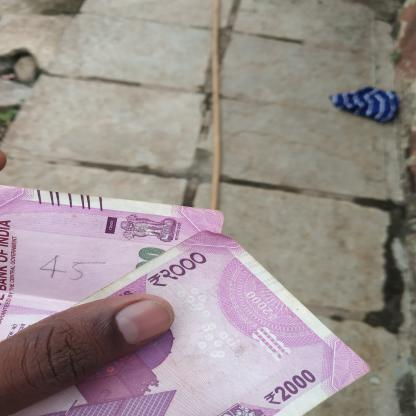New2000Back: (62, 236, 313, 416)
